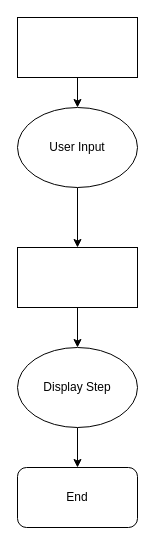
This 155x545 diagram has some shape labels left out. The shapes that lost their labels are listed below. From the top down, each one's centre as x and y in pixels, then its label:
At (x=77, y=47): "Start".
At (x=77, y=277): "Add and other fuctions".
